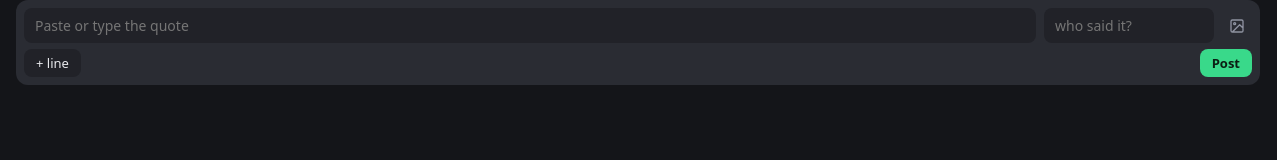
it: QuoteComposer › the picker is keyboard driven: ArrowDown reaches the plain-name option
Step 1. Type "hi" into the text box with placeholder "Paste or type the quote" → (530, 26), box 24,8 -> 1036,43
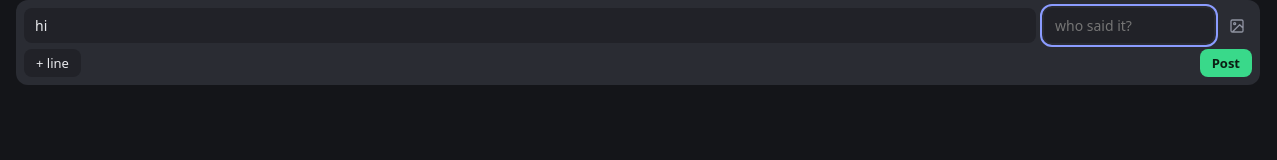
Step 2. Type "sa" into the dropdown with class "who" → (1129, 26), box 1044,8 -> 1214,43
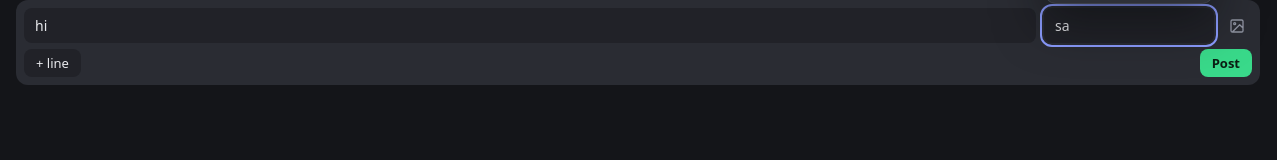
Step 3. Press ArrowDown in the dropdown with class "who", box 1044,8 -> 1214,43
Step 4. Press Enter in the dropdown with class "who", box 1044,8 -> 1214,43
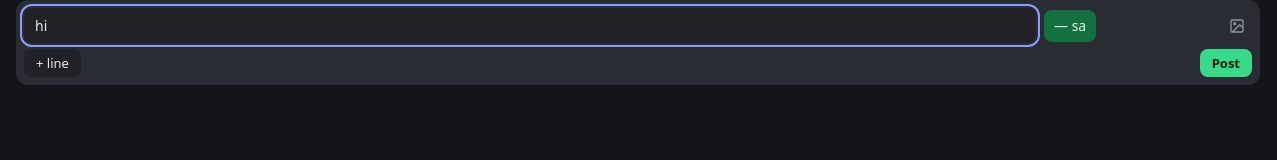
Expected: the button with class "chip" shows "sa", 1044,10 -> 1096,42
